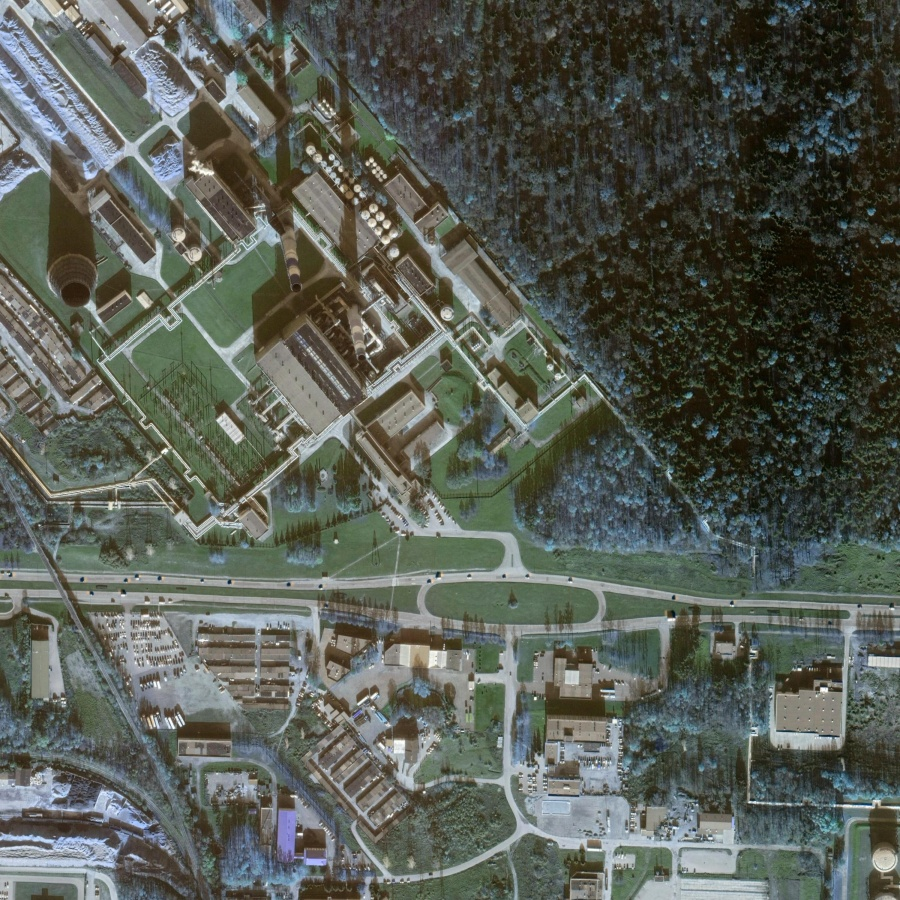PowerPlant: (22, 31, 558, 478)
